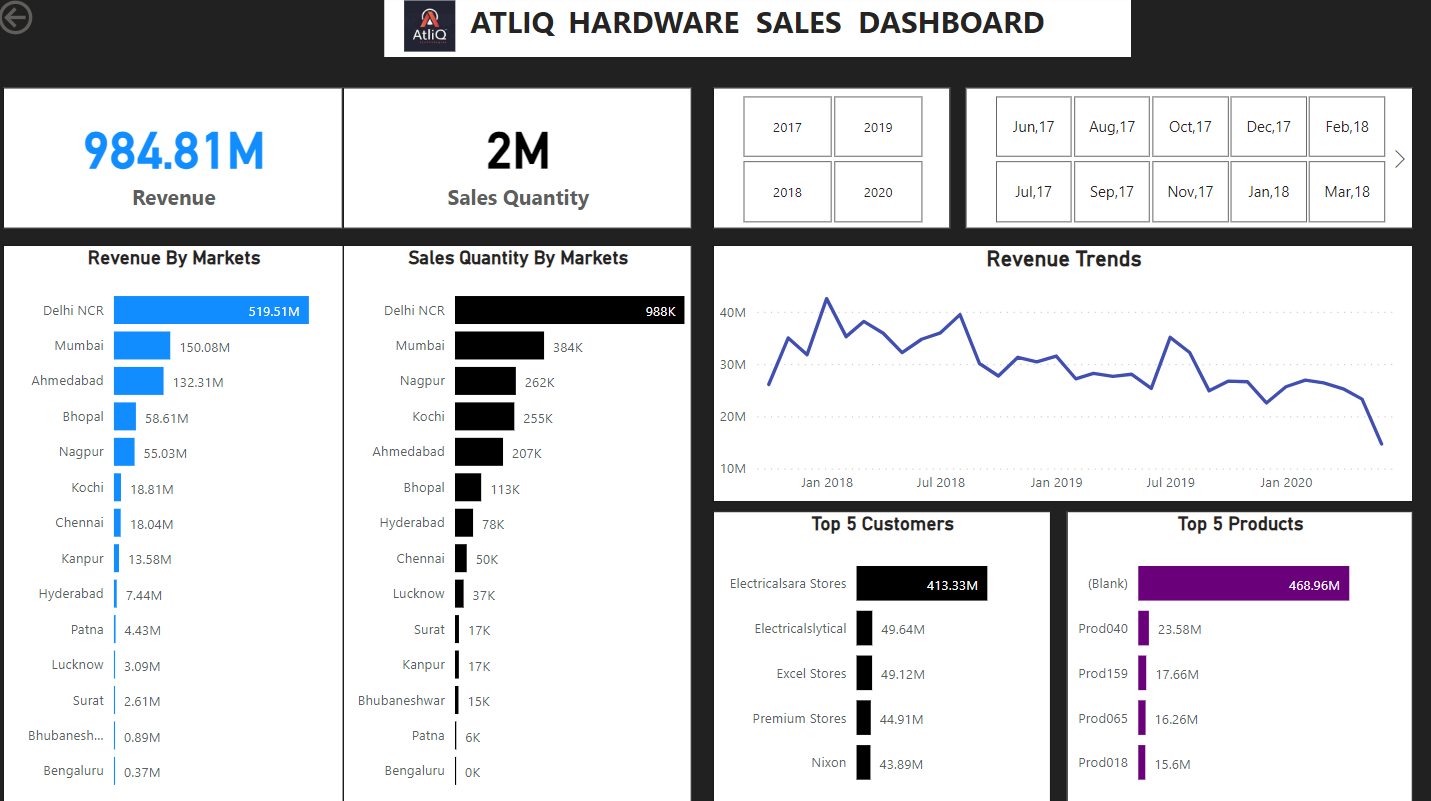

Layout of this report page (visuals, bound fields, positions):
{"tool":"powerbi","page":{"name":"Sales","canvas":[1280,720],"ordinal":0},"visuals":[{"type":"card","fields":{"Values":["Base Measure.Revenue"]},"box":[8.4,82,302.7,125.4],"z":0},{"type":"actionButton","box":[0,0,100,40],"z":1000},{"type":"card","fields":{"Values":["Base Measure.Sales Quantity"]},"box":[311.7,81.9,310.5,125.9],"z":2000},{"type":"barChart","title":"Revenue By Markets","fields":{"Y":["Base Measure.Revenue"],"Category":["sales markets.markets_name"]},"box":[8.6,222.5,303.2,497.5],"z":3000},{"type":"barChart","title":"Sales Quantity By Markets","fields":{"Y":["Base Measure.Sales Quantity"],"Category":["sales markets.markets_name"]},"box":[311.7,222.5,310.5,497.5],"z":4000},{"type":"slicer","fields":{"Values":["sales date.year"]},"box":[640.5,81.9,211.5,125.9],"z":5000},{"type":"slicer","fields":{"Values":["sales date.cy_date"]},"box":[865.5,81.9,398.5,125.9],"z":6000},{"type":"barChart","title":"Top 5 Customers","fields":{"Y":["Base Measure.Revenue"],"Category":["sales customers.custmer_name"]},"box":[640.5,459.6,300.7,260.4],"z":7000},{"type":"barChart","title":"Top 5 Products","fields":{"Y":["Base Measure.Revenue"],"Category":["sales products.product_code"]},"box":[955.9,459.6,308,260.4],"z":8000},{"type":"lineChart","title":"Revenue Trends","fields":{"Y":["Base Measure.Revenue"],"Category":["sales date.cy_date"]},"box":[640.5,222.5,623.4,228.6],"z":9000},{"type":"textbox","box":[348.5,0,664.5,55.5],"z":10000},{"type":"image","box":[285.8,0,205,55.5],"z":11000}]}

Visuals, with their boxes in screenshot pixels (x1, y1, x2, y2), scaled from the page's 1280x720 canvas onto the 1431x801 screenshot:
card - Base Measure.Revenue: [9,91,348,231]
actionButton: [0,0,112,44]
card - Base Measure.Sales Quantity: [348,91,696,231]
"Revenue By Markets" barChart: [10,248,349,800]
"Sales Quantity By Markets" barChart: [348,248,696,800]
slicer - sales date.year: [716,91,953,231]
slicer - sales date.cy_date: [968,91,1413,231]
"Top 5 Customers" barChart: [716,511,1052,800]
"Top 5 Products" barChart: [1069,511,1413,800]
"Revenue Trends" lineChart: [716,248,1413,502]
textbox: [390,0,1133,62]
image: [320,0,549,62]
